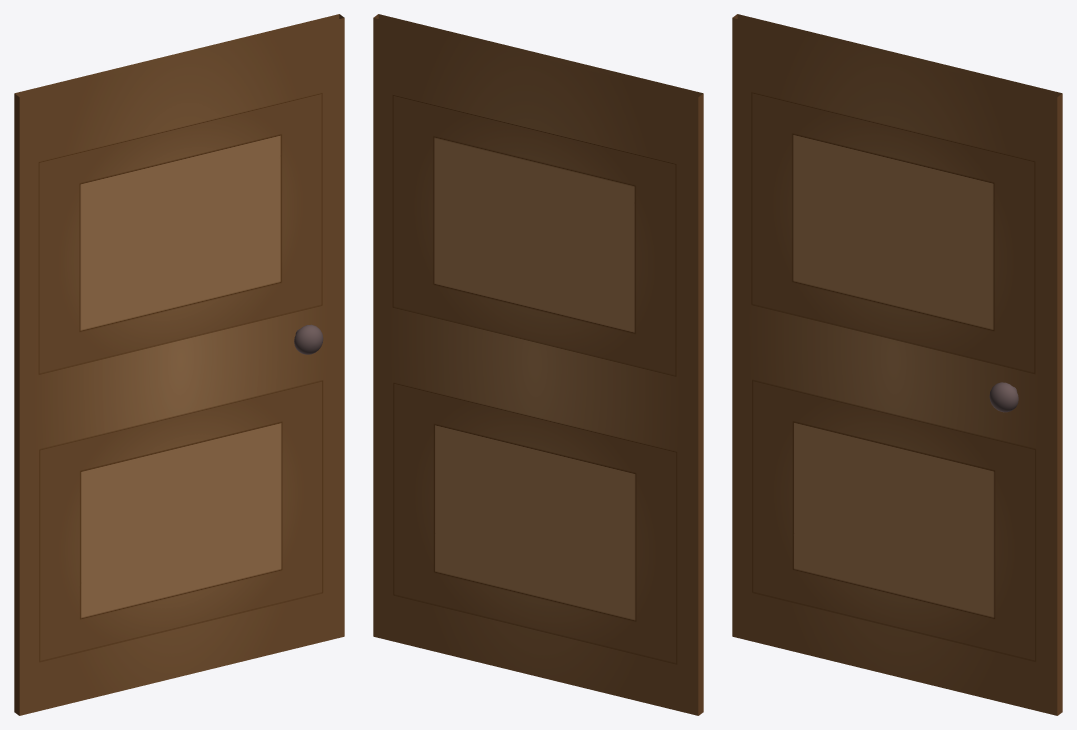
Rendered from Door_001.fbx.
The picture shows the model from 3 angles, left to right: view 1: azimuth 30°, elevation 25°; view 2: azimuth 150°, elevation 25°; view 3: azimuth 330°, elevation 25°; orthographic projection.
Parts seen in each view (by area): view 1: pSphere2; view 2: pSphere2; view 3: pSphere2.
Boxes of the visible parts, x1,y1,x2,y2 form: pSphere2: [14, 14, 344, 715]; pSphere2: [373, 14, 703, 715]; pSphere2: [732, 14, 1062, 715].
Size of the model in its own units: 110 by 200 by 11.77.
2 materials, 1 textured.
